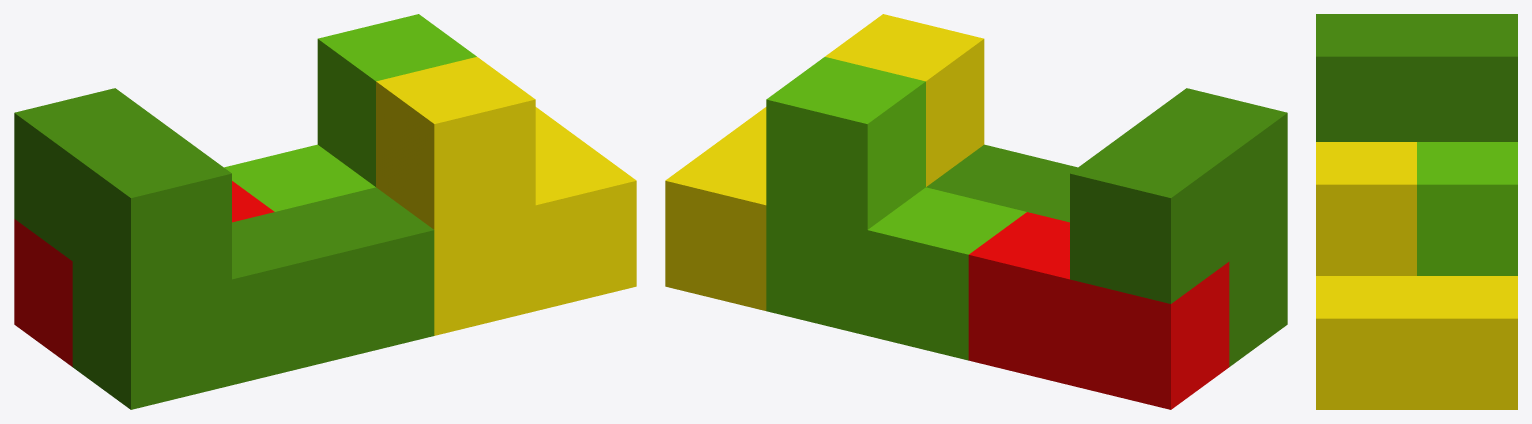
The picture shows the model from 3 angles, left to right: view 1: azimuth 30°, elevation 25°; view 2: azimuth 150°, elevation 25°; view 3: azimuth 270°, elevation 25°; orthographic projection. The views are drawn at different scales.
Visible parts, largest first — view 1: mergedBlocks(Clone); view 2: mergedBlocks(Clone); view 3: mergedBlocks(Clone).
Part boxes in pixels (<box>): mergedBlocks(Clone): <box>14,14,636,409</box>; mergedBlocks(Clone): <box>665,14,1287,409</box>; mergedBlocks(Clone): <box>1316,14,1517,409</box>.
Size of the model in its own units: 5 by 2 by 2.
4 materials, 4 textured.
